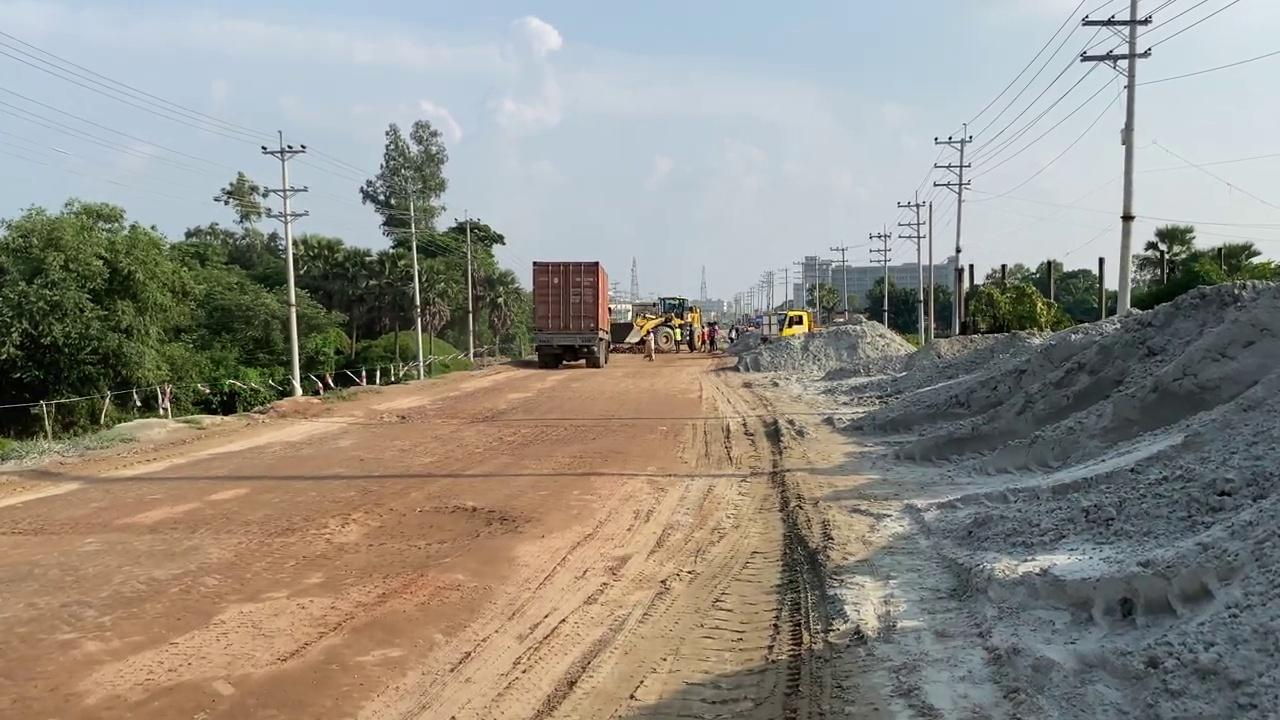Garbage: (726, 282, 1278, 718)
Muddy road: (1, 342, 884, 718)
Pole: (260, 129, 309, 396), (1115, 1, 1138, 315), (464, 210, 475, 363)
Tree: (530, 259, 610, 368), (623, 295, 705, 353), (759, 309, 816, 344)
